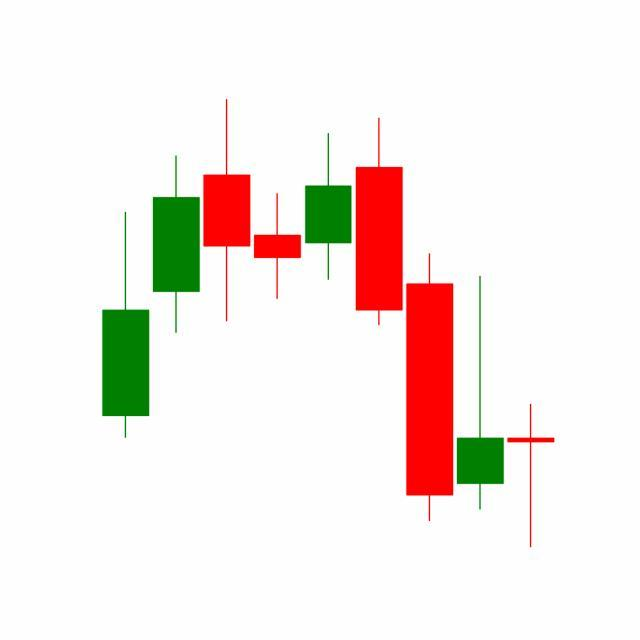Hikkake Pattern: (302, 114, 555, 549)
